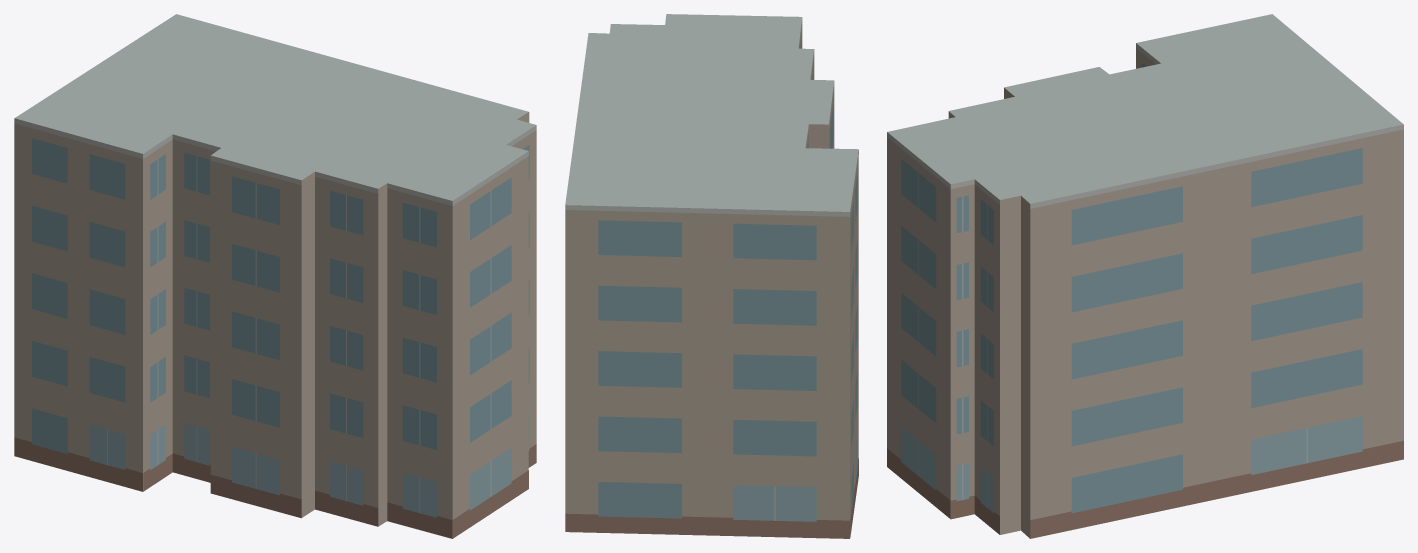
Rendered from survey-upis-32981298.glb.
The picture shows the model from 3 angles, left to right: view 1: azimuth 30°, elevation 25°; view 2: azimuth 150°, elevation 25°; view 3: azimuth 270°, elevation 25°; orthographic projection. The views are drawn at different scales.
Visible parts, largest first — view 1: survey-upis-32981298.tmp; view 2: survey-upis-32981298.tmp; view 3: survey-upis-32981298.tmp.
Boxes of the visible parts, x1,y1,x2,y2 form: survey-upis-32981298.tmp: (14,14,536,538); survey-upis-32981298.tmp: (565,14,858,538); survey-upis-32981298.tmp: (887,14,1403,538).
Bounding box in the file's own units: 19.95 × 16.4 × 22.94.
